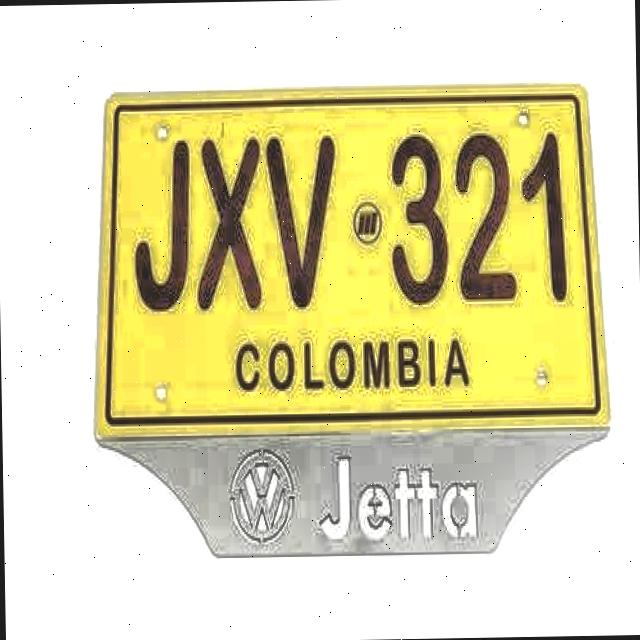plate: (104, 90, 604, 431)
